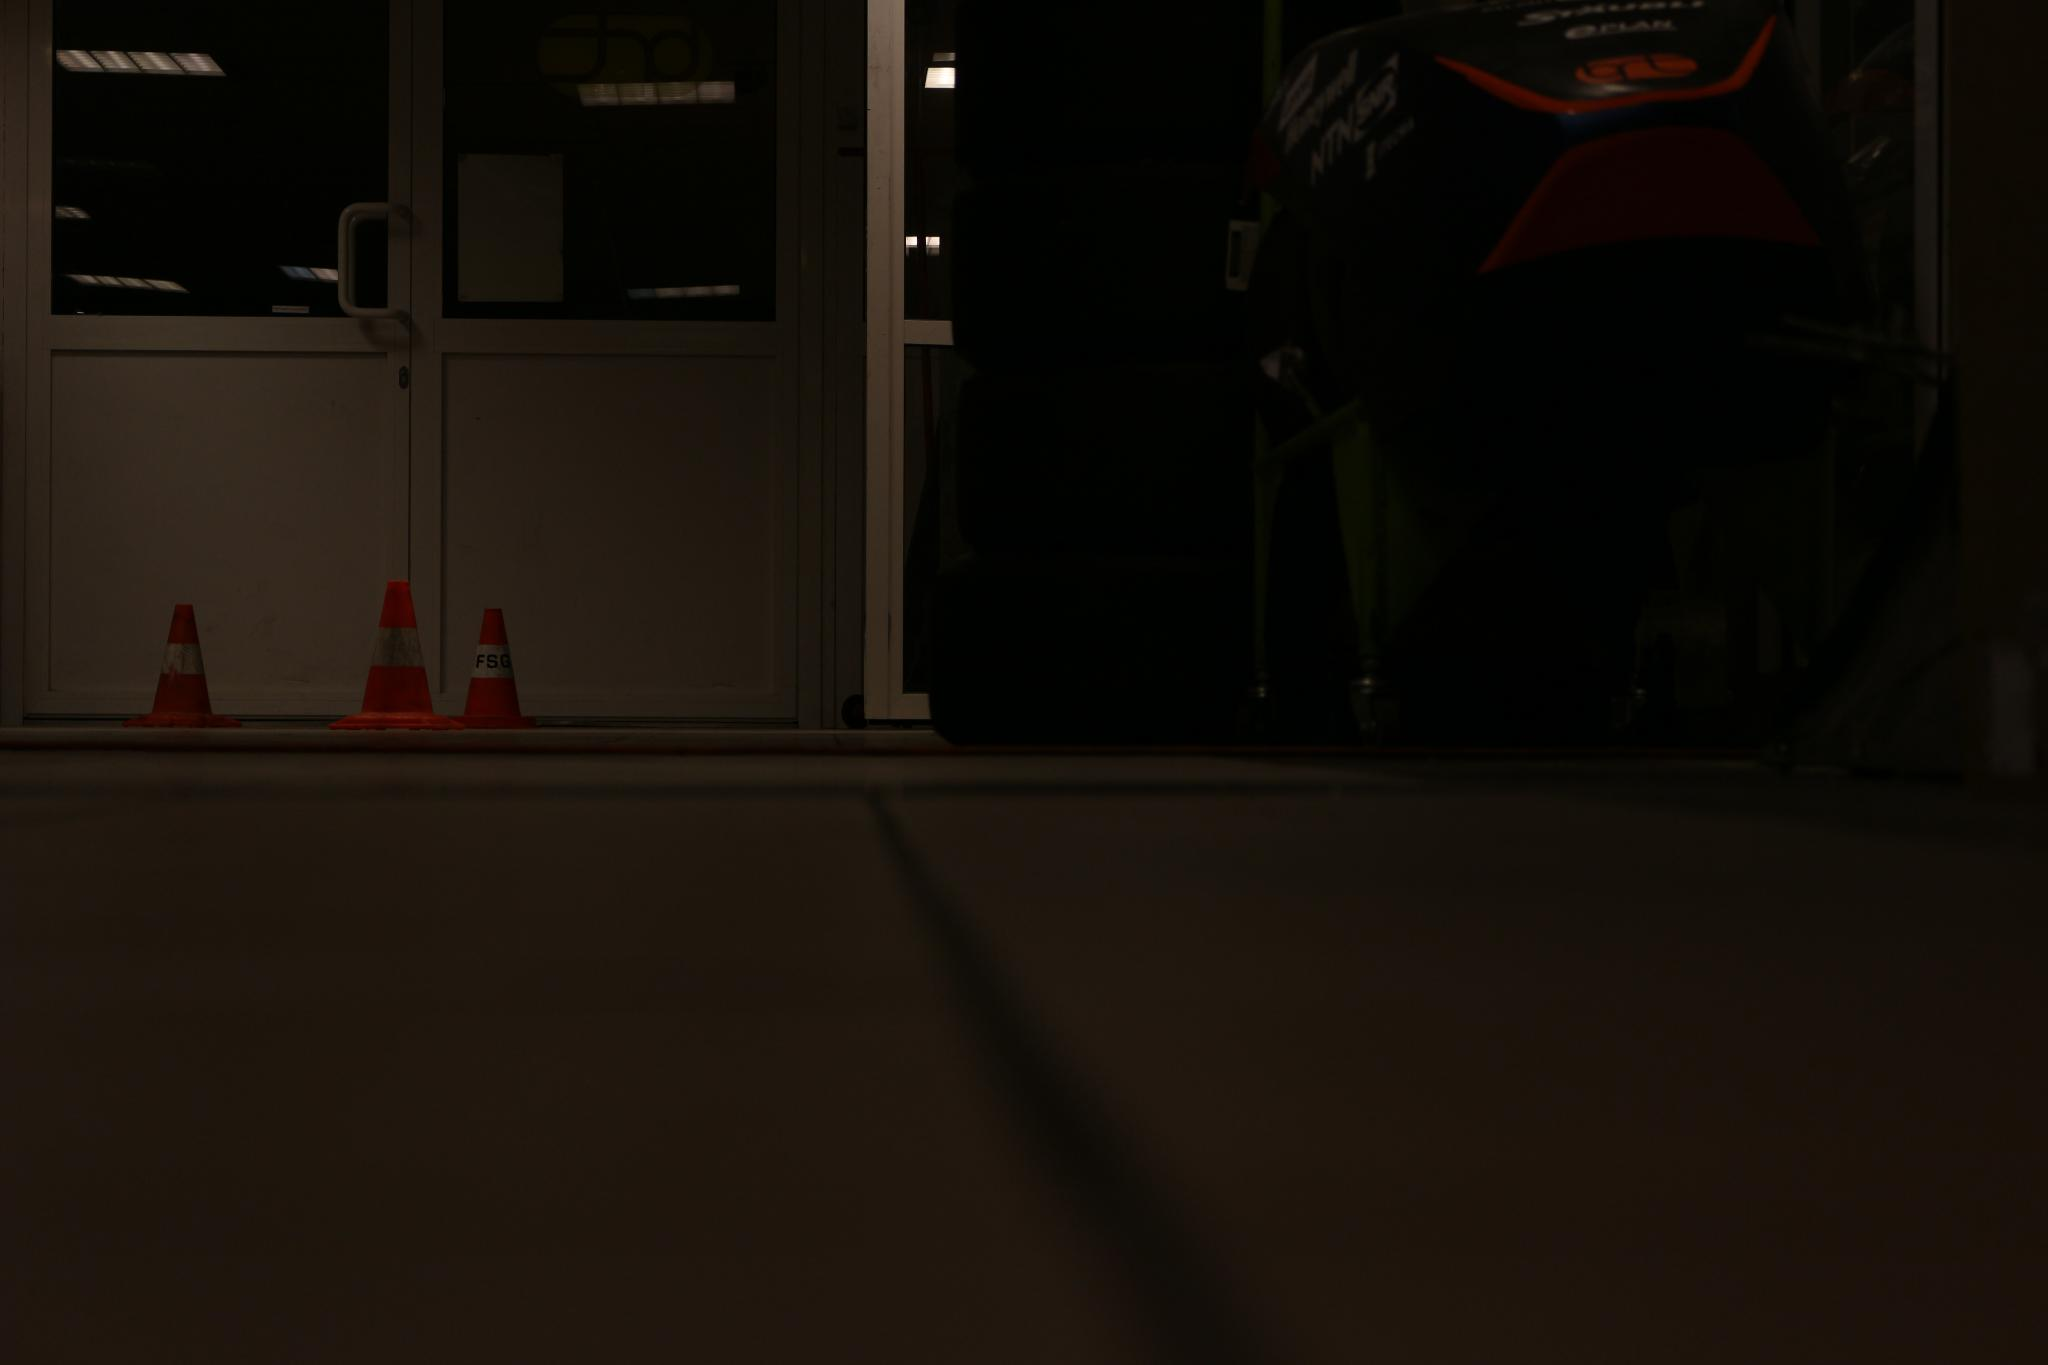Orange_Cone: (317, 571, 446, 736), (117, 587, 224, 737), (454, 591, 541, 737)
